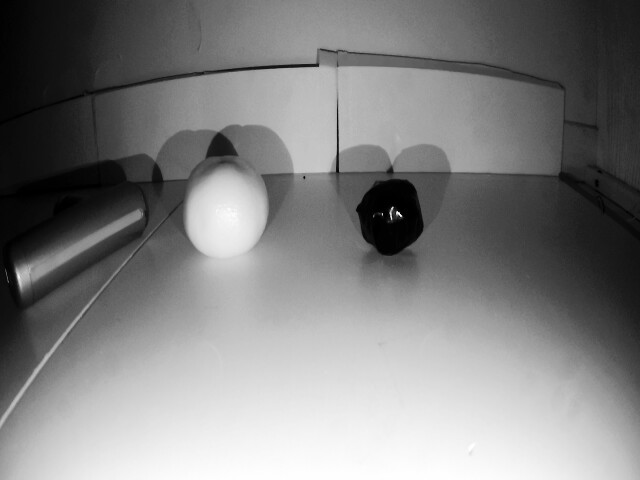black: (355, 180, 425, 266)
